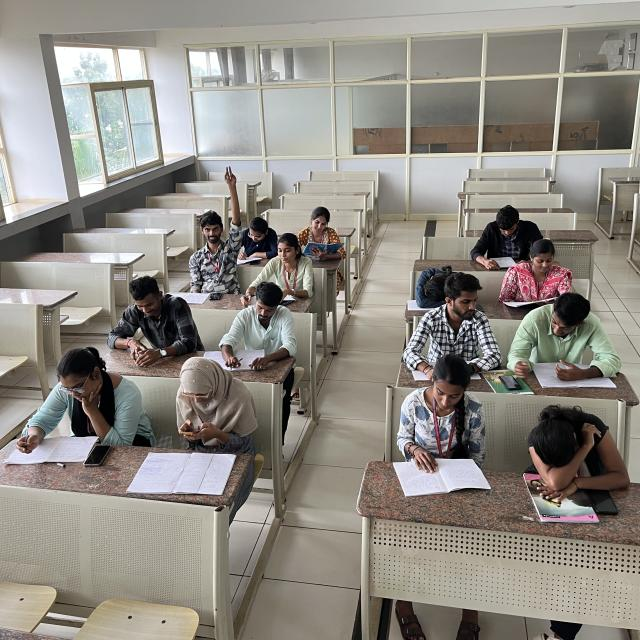Hand Rising: (185, 156, 248, 287), (229, 203, 277, 260)
Reading: (396, 352, 489, 484), (453, 190, 530, 277), (504, 238, 570, 316), (300, 199, 346, 266)
Sleeping: (510, 390, 632, 495), (402, 240, 461, 308)
Using Phone: (98, 260, 200, 366), (167, 352, 240, 448)
Writing: (2, 342, 128, 453), (221, 282, 298, 369), (239, 234, 311, 303)
